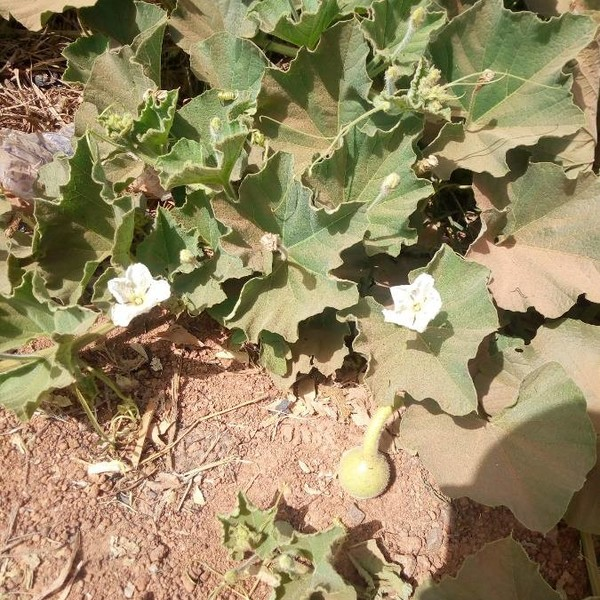obstacle: (79, 64, 558, 501)
